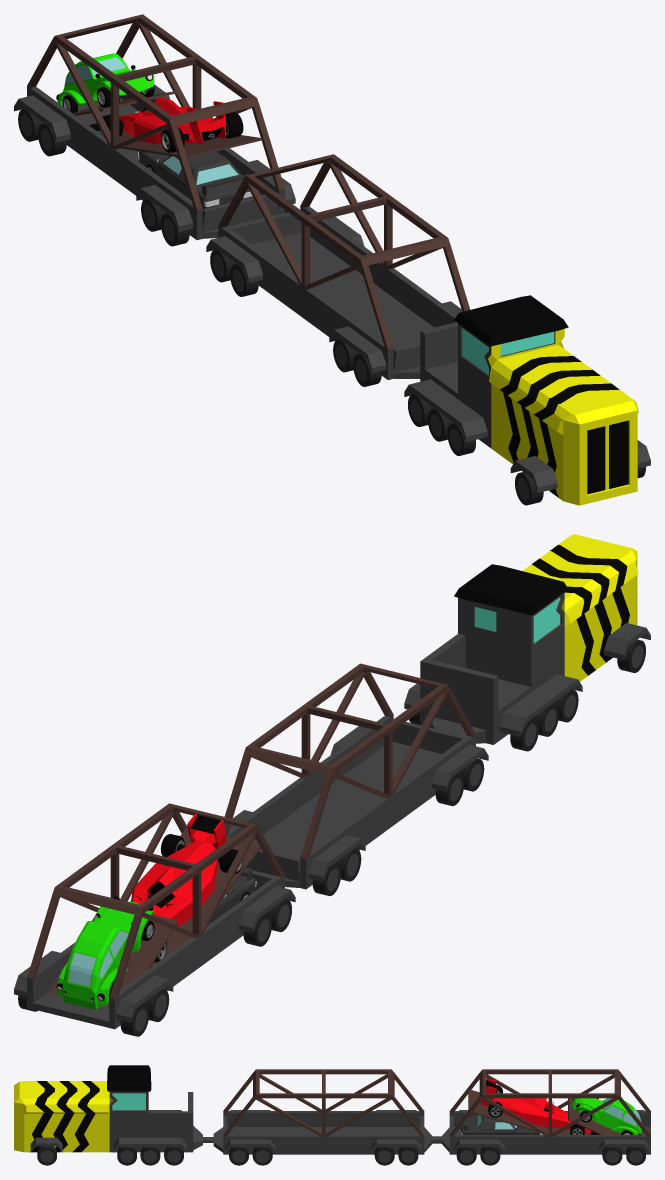
File: train.fbx
The picture shows the model from 3 angles, top to bottom: view 1: azimuth 30°, elevation 25°; view 2: azimuth 150°, elevation 25°; view 3: azimuth 270°, elevation 25°; orthographic projection. The views are drawn at different scales.
Visible parts, largest first — view 1: Train; view 2: Train; view 3: Train.
Part boxes in pixels (x1,y1,x2,y2): Train: (14,14,650,505); Train: (14,534,650,1036); Train: (14,1065,650,1165).
Size of the model in its own units: 8.04 by 8.16 by 64.03.
